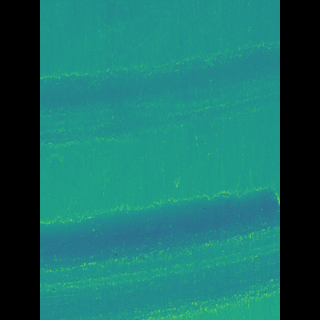Loch: (70, 185, 250, 320), (70, 37, 249, 149)
